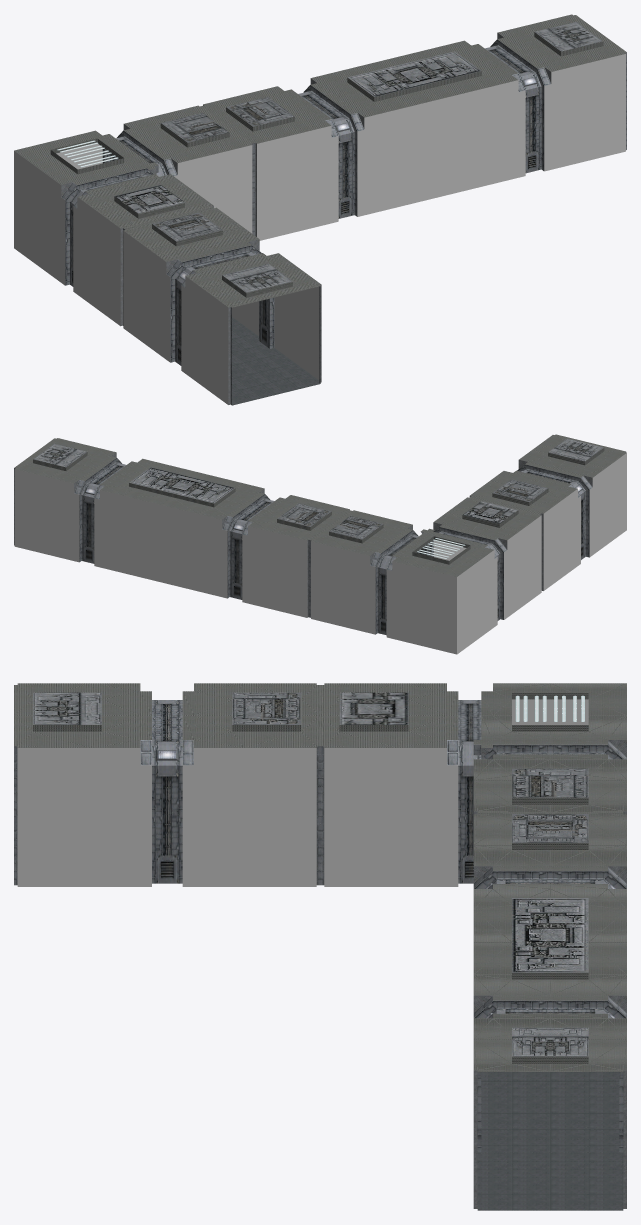
File: poi_all_impl_bunker_small_outpost_s01_r46_hall_mesh.fbx
3 views of the same model, one above another, from view 1: azimuth 30°, elevation 25°; view 2: azimuth 150°, elevation 25°; view 3: azimuth 270°, elevation 25° (orthographic). The views are drawn at different scales.
Parts seen in each view (by area): view 1: mesh_node; view 2: mesh_node; view 3: mesh_node.
Part boxes in pixels (<box>): mesh_node: <box>14,14,626,405</box>; mesh_node: <box>14,434,626,654</box>; mesh_node: <box>14,683,626,1210</box>.
Size of the model in its own units: 24 by 4.2 by 16.
